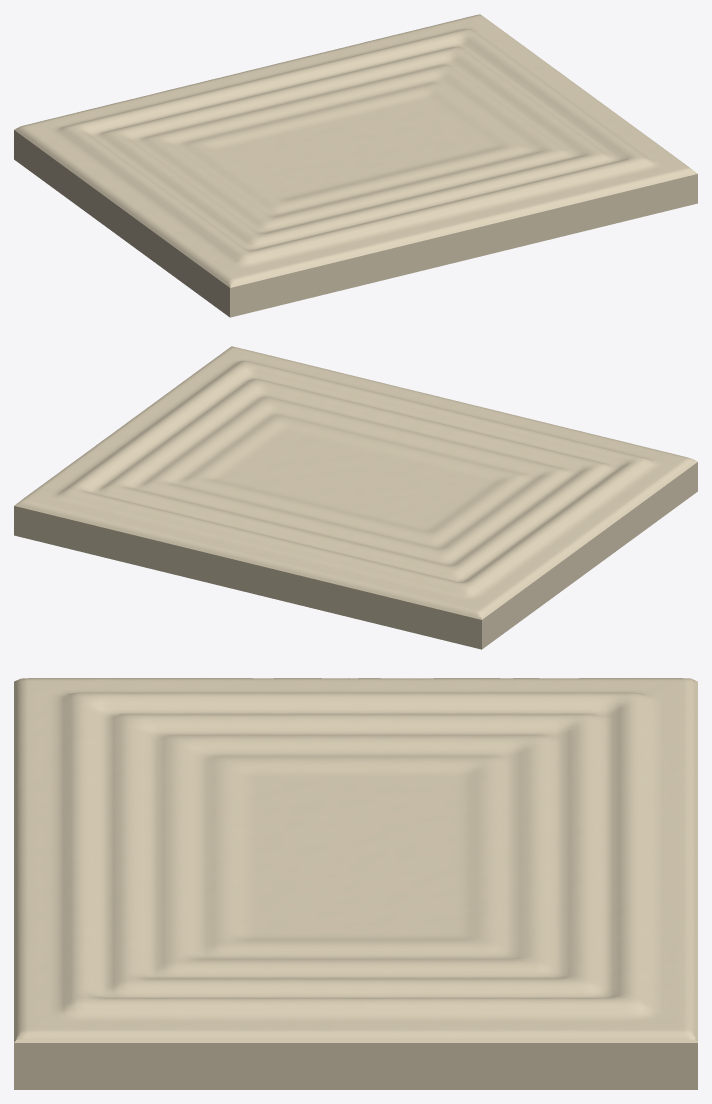
Rendered from mahsulot.glb.
3 renders of one model, top to bottom at view 1: azimuth 30°, elevation 25°; view 2: azimuth 150°, elevation 25°; view 3: azimuth 270°, elevation 25°, orthographic. The views are drawn at different scales.
Parts seen in each view (by area): view 1: mahsulot; view 2: mahsulot; view 3: mahsulot.
Part boxes in pixels (x1=…): mahsulot: x1=14, y1=14, x2=697, y2=317; mahsulot: x1=14, y1=346, x2=697, y2=649; mahsulot: x1=14, y1=678, x2=697, y2=1089.
Size of the model in its own units: 0.5 by 0.0398 by 0.4.
